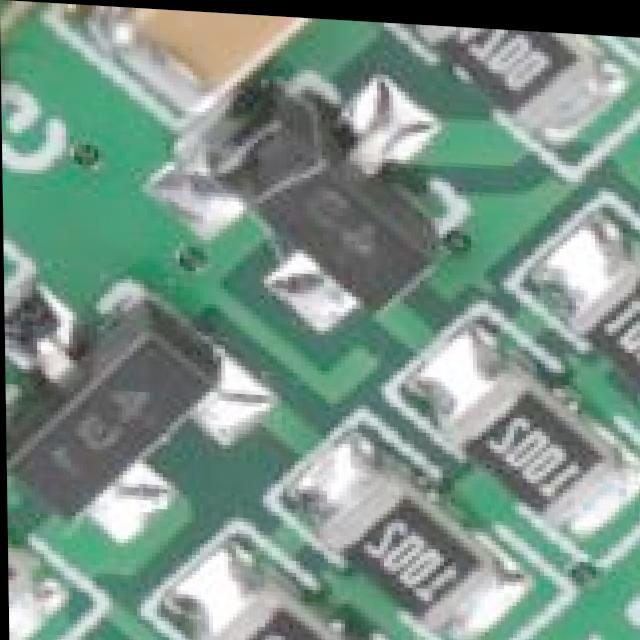capacitor: (76, 4, 341, 144)
resistor: (452, 365, 596, 523), (412, 19, 589, 131), (341, 486, 461, 640), (562, 210, 640, 402), (187, 576, 363, 640)
transistor: (3, 284, 266, 532), (213, 80, 426, 332)
